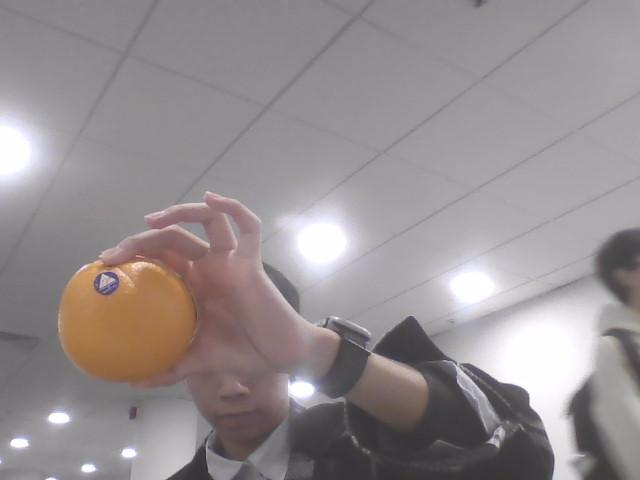orange: (58, 257, 196, 381)
